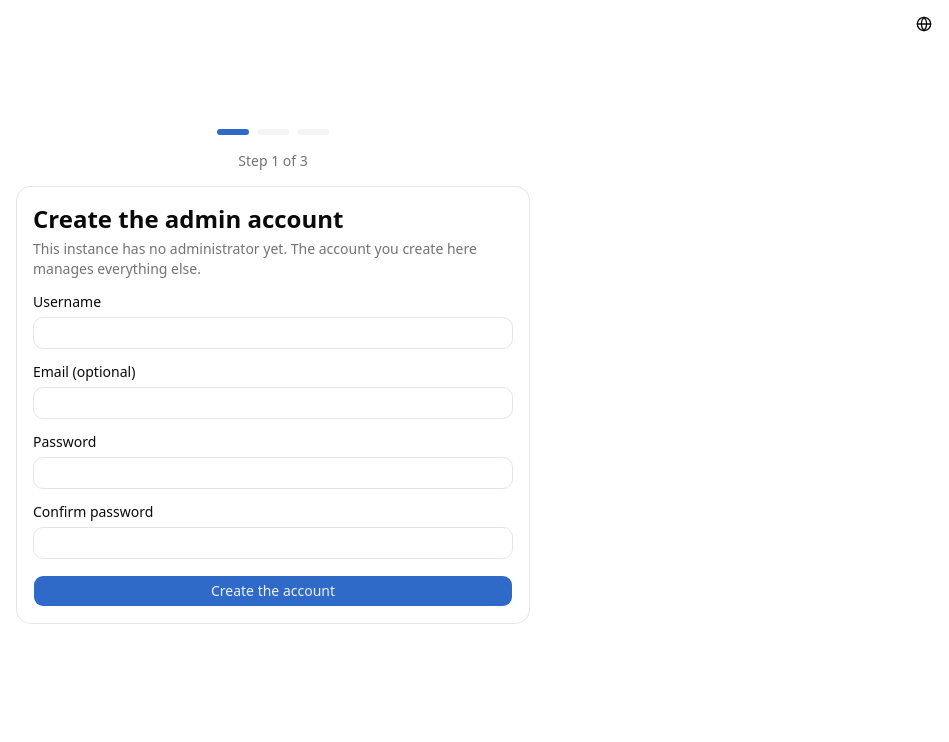
Test: explains a stale token and lets the admin paste a new one
Type "root" into the field labelled "Username" at x=273, y=333, box 33,317 -> 513,349
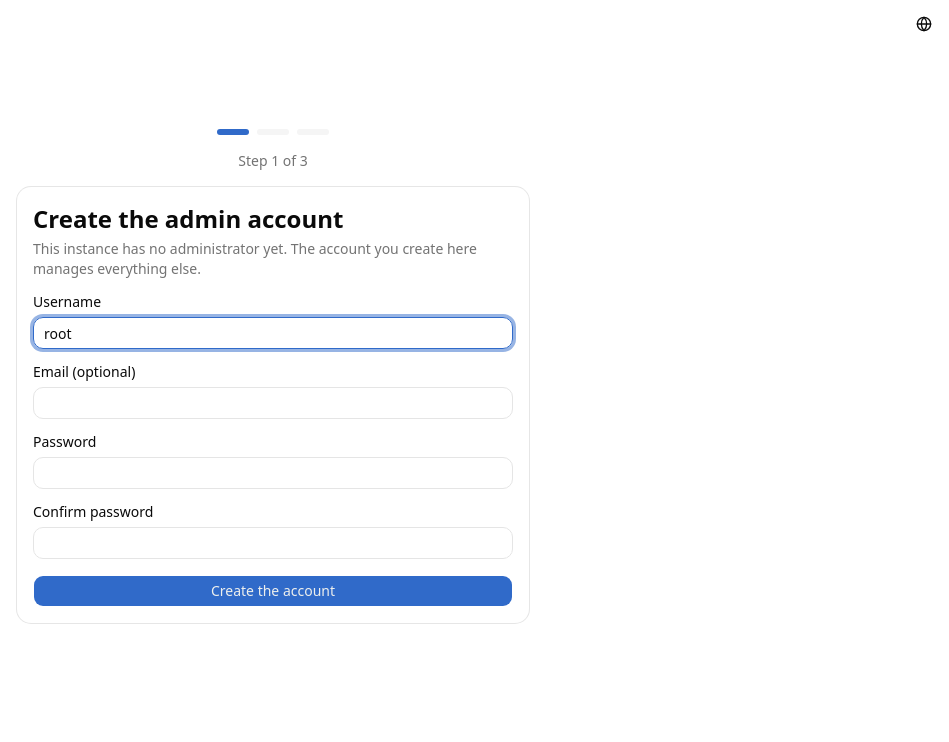
Type "strongpass" into the password field labelled "Password" at x=273, y=473, box 33,457 -> 513,489
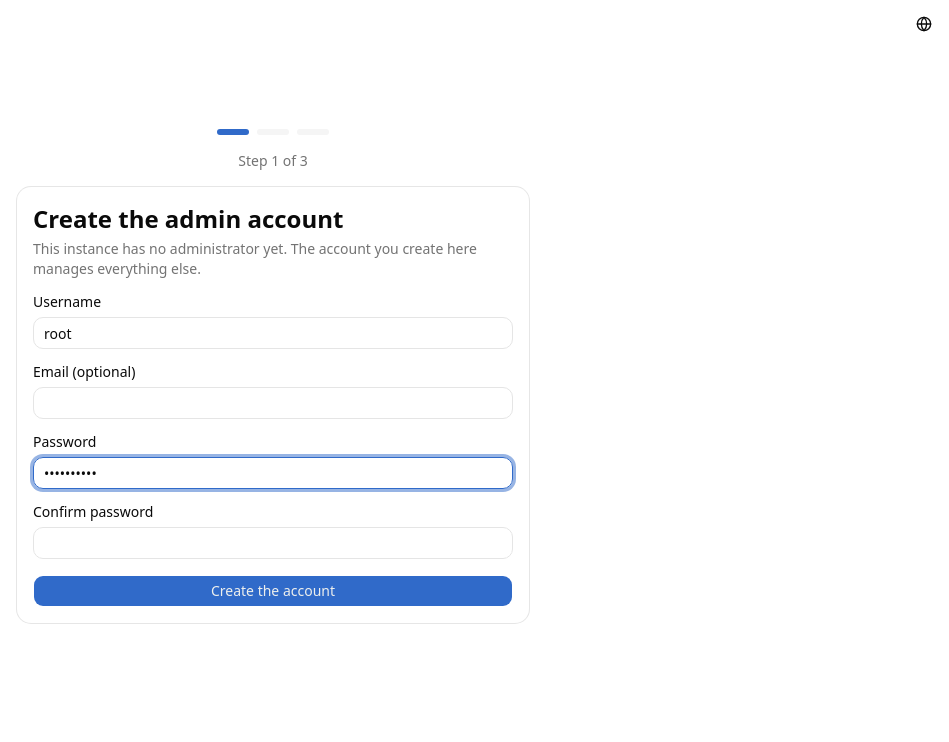
Type "strongpass" into the password field labelled "Confirm password" at x=273, y=543, box 33,527 -> 513,559
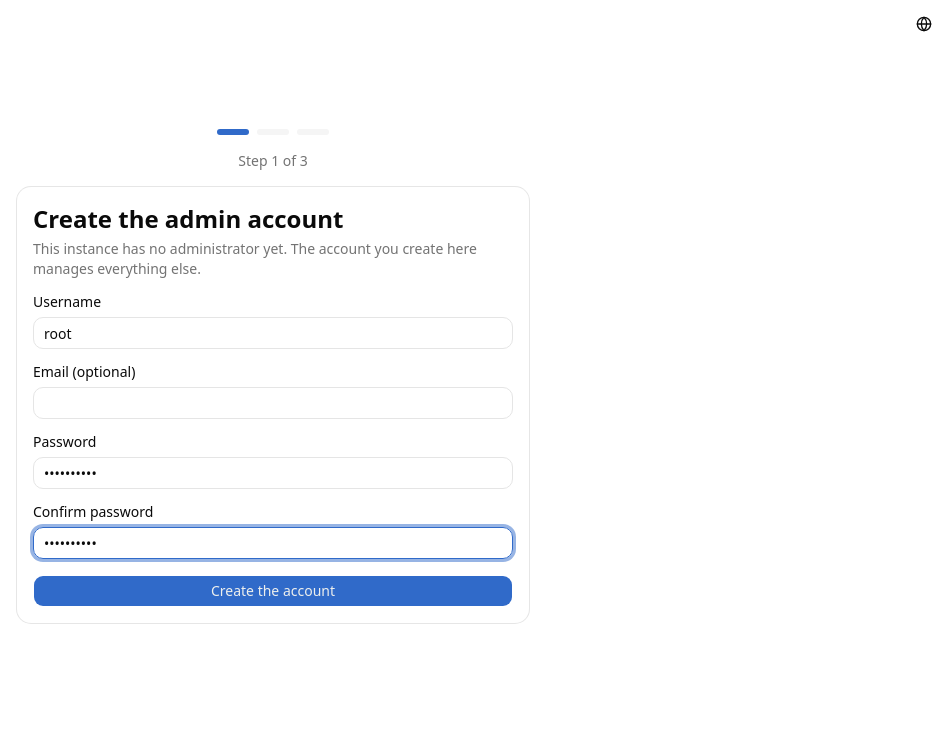
Click the button "Create the account" at x=273, y=591, box 33,575 -> 513,607
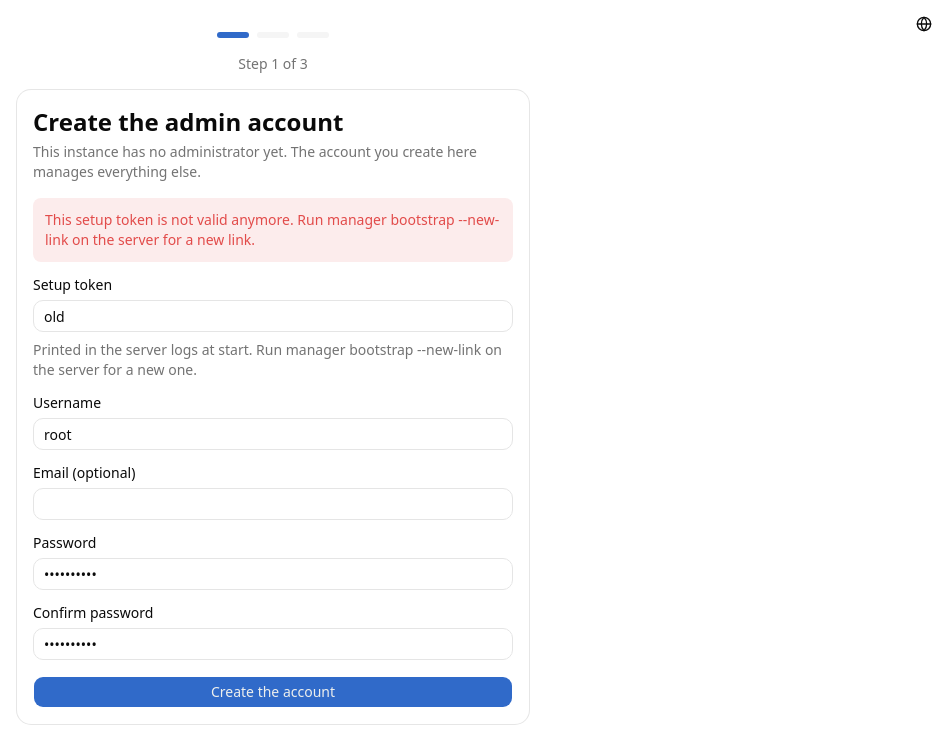
Result: the text "This setup token is not valid anymore" is shown at 45,210 -> 499,249
Result: the field labelled "Setup token" is shown at 33,300 -> 513,332
